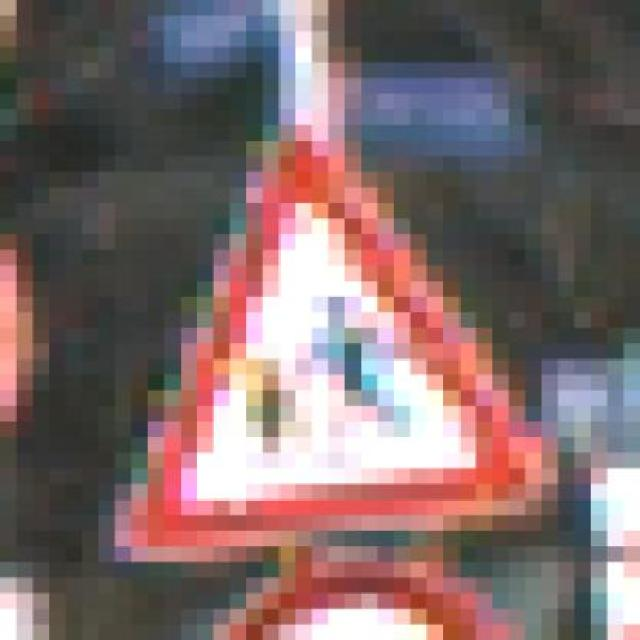Beware of children: (66, 141, 574, 562)
